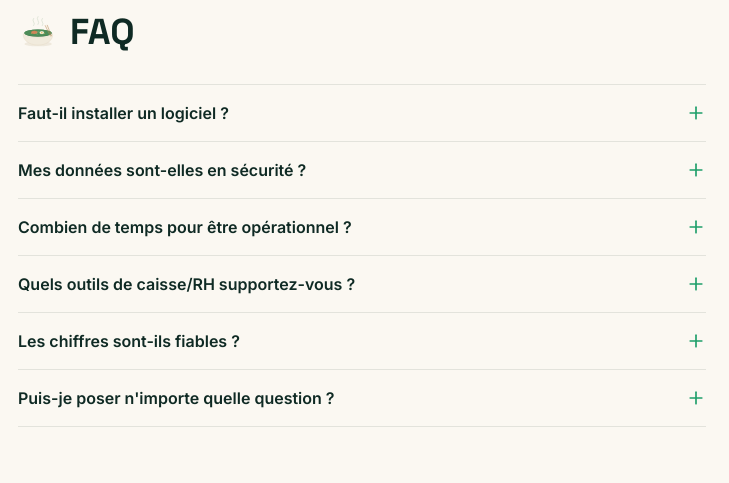
Test: Faq (T-6.2) › expands the answer on click, setting aria-expanded to true
Click the button "Faut-il installer un logiciel ?" at (123, 113), box [18,85,706,141]
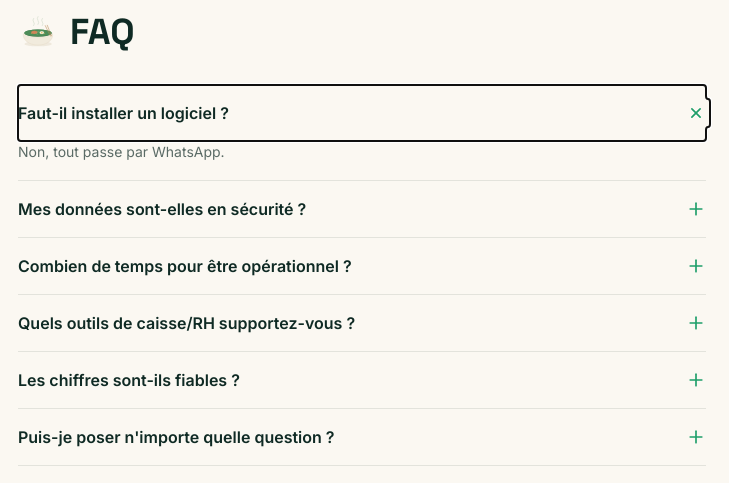
Now the button "Faut-il installer un logiciel ?" is expanded, box [18,85,706,141]
Now the text "Non, tout passe par WhatsApp." is shown, box [18,143,225,160]
